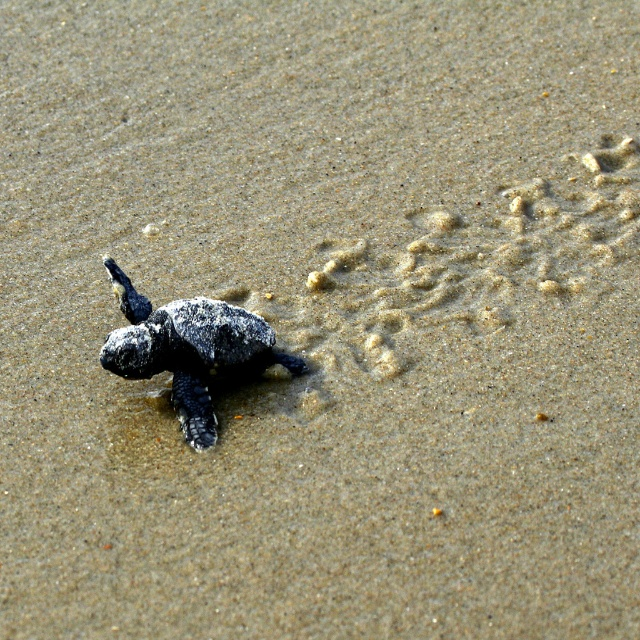Sea turtle: (97, 254, 314, 454)
